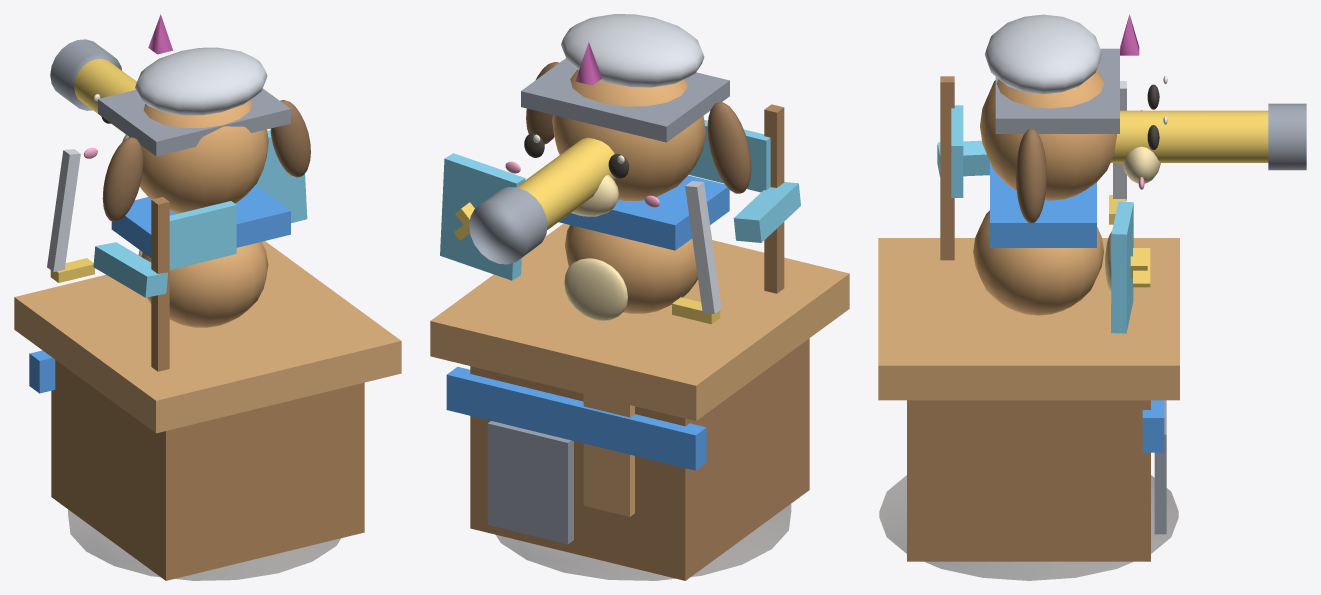
File: pup_tower.glb
3 renders of one model, left to right at view 1: azimuth 30°, elevation 25°; view 2: azimuth 150°, elevation 25°; view 3: azimuth 270°, elevation 25°, orthographic. The views are drawn at different scales.
Parts seen in each view (by area): view 1: base, rail, guard-head, guard-helmet, guard-body, guard-helmet-rim, shadow, guard-scarf, flag, flag-pole, guard-ear-l, guard-scarf-tail (+8 smaller); view 2: rail, base, band, door, guard-head, guard-helmet, guard-helmet-rim, guard-body, guard-scarf, guard-shield, shadow, cannon-tip (+12 smaller); view 3: base, rail, guard-head, guard-body, bolt-cannon, guard-helmet, guard-scarf, shadow, guard-helmet-rim, guard-shield, cannon-tip, flag-pole (+7 smaller).
Boxes of the visible parts, <box> form: base: <box>51,360,364,580</box>; rail: <box>14,241,401,433</box>; guard-head: <box>129,100,268,213</box>; guard-helmet: <box>135,47,267,115</box>; guard-body: <box>141,242,268,327</box>; guard-helmet-rim: <box>98,88,290,156</box>; shadow: <box>68,510,340,580</box>; guard-scarf: <box>111,185,290,257</box>; flag: <box>169,201,236,269</box>; flag-pole: <box>151,197,169,371</box>; guard-ear-l: <box>102,137,143,221</box>; guard-scarf-tail: <box>93,242,167,297</box>; rail: <box>430,223,849,420</box>; base: <box>470,338,809,580</box>; band: <box>446,366,706,470</box>; door: <box>487,421,573,544</box>; guard-head: <box>552,69,705,200</box>; guard-helmet: <box>561,14,704,87</box>; guard-helmet-rim: <box>521,58,729,142</box>; guard-body: <box>565,225,697,313</box>; guard-scarf: <box>558,175,729,250</box>; guard-shield: <box>440,153,525,280</box>; shadow: <box>496,504,791,580</box>; cannon-tip: <box>469,187,547,264</box>; base: <box>907,400,1150,561</box>; rail: <box>878,238,1179,400</box>; guard-head: <box>980,70,1116,200</box>; guard-body: <box>973,210,1103,315</box>; bolt-cannon: <box>1110,110,1268,162</box>; guard-helmet: <box>985,14,1101,94</box>; guard-scarf: <box>990,162,1096,247</box>; shadow: <box>879,475,1178,580</box>; guard-helmet-rim: <box>995,48,1119,133</box>; guard-shield: <box>1111,201,1133,333</box>; cannon-tip: <box>1268,103,1306,170</box>; flag-pole: <box>940,76,954,260</box>.
Size of the model in its own units: 1.34 by 2.32 by 1.79.
